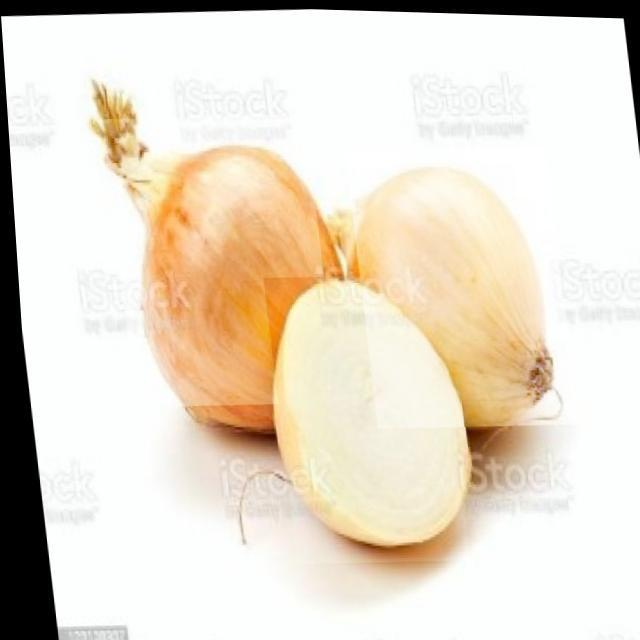Onion: (100, 108, 334, 412), (343, 138, 574, 432), (259, 268, 463, 567)
